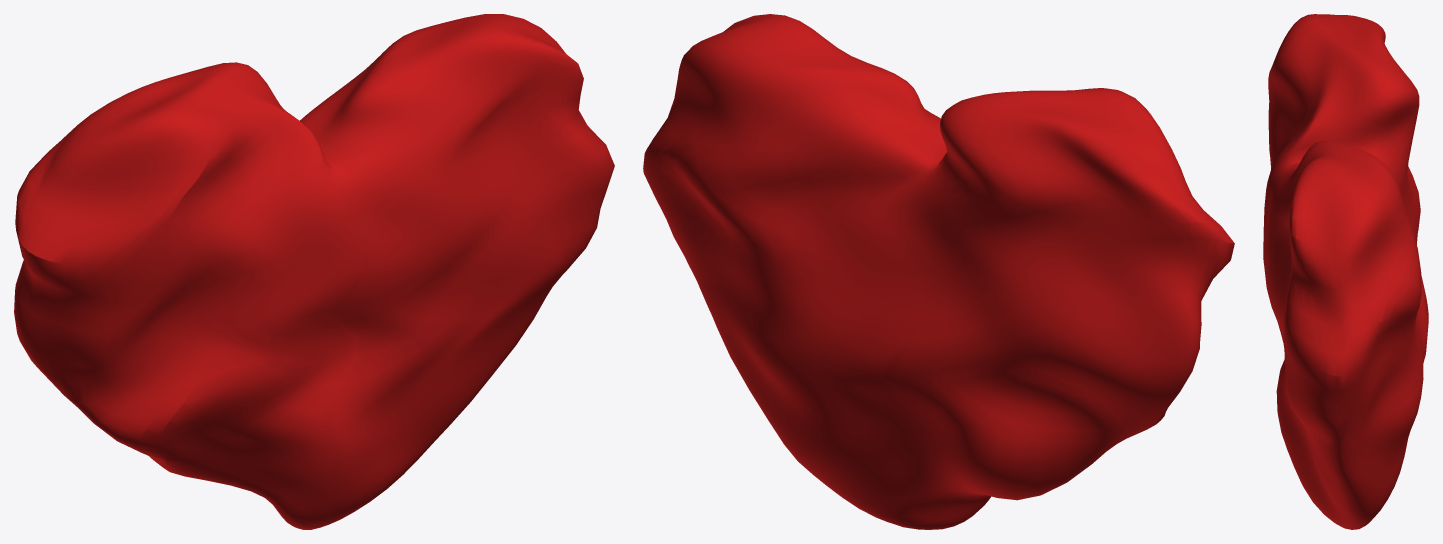
The model's file is 30 heart.obj.
3 views of the same model, side by side, from view 1: azimuth 30°, elevation 25°; view 2: azimuth 150°, elevation 25°; view 3: azimuth 270°, elevation 25° (orthographic). The views are drawn at different scales.
Visible parts, largest first — view 1: 000_Heart; view 2: 000_Heart; view 3: 000_Heart.
Boxes of the visible parts, x1,y1,x2,y2 form: 000_Heart: [14, 14, 614, 529]; 000_Heart: [643, 14, 1234, 529]; 000_Heart: [1263, 14, 1428, 529].
Bounding box in the file's own units: 280 × 214 × 76.
